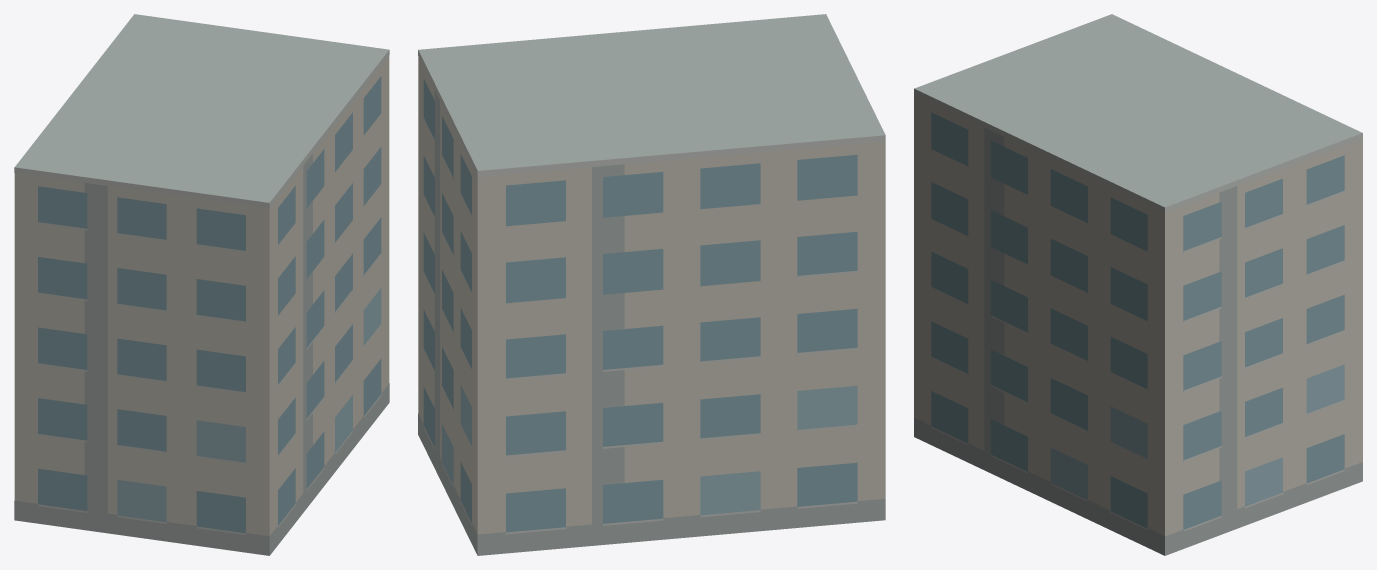
File: residential-e4076ac2-b2c9-4e7f-bacd-a2277b3a6626.glb
3 views of the same model, side by side, from view 1: azimuth 30°, elevation 25°; view 2: azimuth 150°, elevation 25°; view 3: azimuth 270°, elevation 25° (orthographic). The views are drawn at different scales.
Parts seen in each view (by area): view 1: residential-e4076ac2-b2c9-4e7f-bacd-a2277b3a6626.tmp; view 2: residential-e4076ac2-b2c9-4e7f-bacd-a2277b3a6626.tmp; view 3: residential-e4076ac2-b2c9-4e7f-bacd-a2277b3a6626.tmp.
Part boxes in pixels (x1,y1,x2,y2): residential-e4076ac2-b2c9-4e7f-bacd-a2277b3a6626.tmp: [14, 14, 389, 555]; residential-e4076ac2-b2c9-4e7f-bacd-a2277b3a6626.tmp: [418, 14, 885, 555]; residential-e4076ac2-b2c9-4e7f-bacd-a2277b3a6626.tmp: [914, 14, 1362, 555].
Size of the model in its own units: 18.17 by 15.25 by 17.81.
